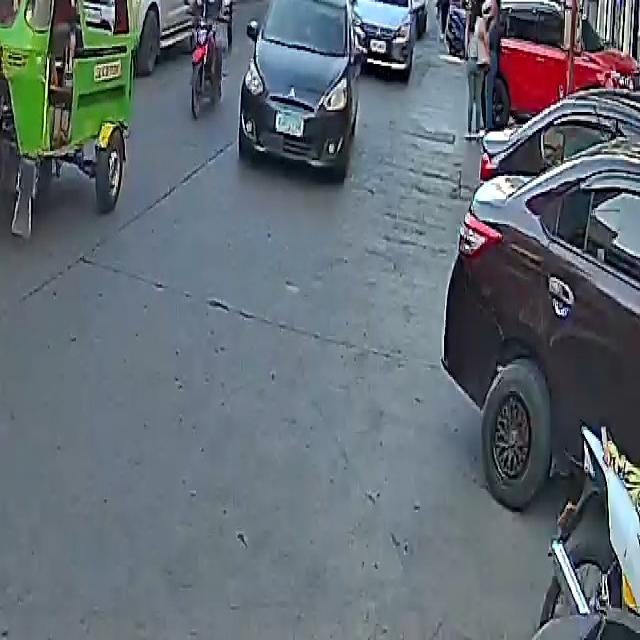car: (445, 86, 640, 527), (236, 0, 364, 178), (468, 0, 640, 132), (107, 0, 208, 60), (347, 0, 421, 76)
